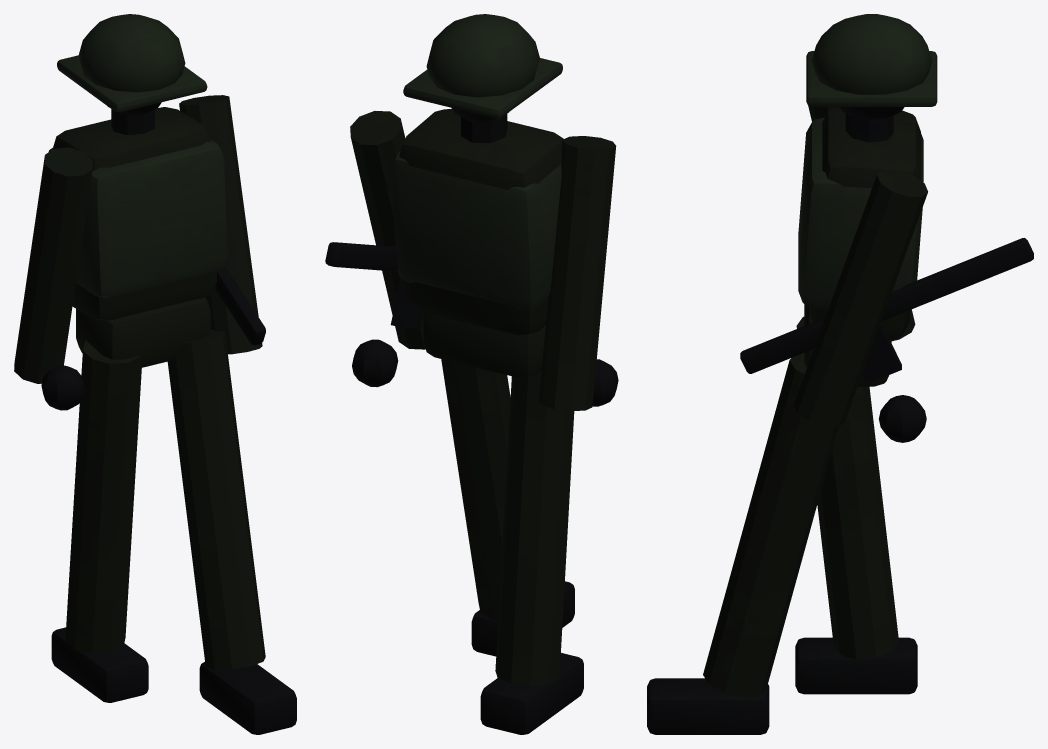
The model's file is fac_person_b.glb.
3 renders of one model, left to right at view 1: azimuth 30°, elevation 25°; view 2: azimuth 150°, elevation 25°; view 3: azimuth 270°, elevation 25°, orthographic. The views are drawn at different scales.
Visible parts, largest first — view 1: FAC_PERSON_B; view 2: FAC_PERSON_B; view 3: FAC_PERSON_B.
Boxes of the visible parts, box(x1,y1,x2,y2) form: FAC_PERSON_B: box(14, 14, 296, 734); FAC_PERSON_B: box(325, 14, 618, 734); FAC_PERSON_B: box(647, 14, 1033, 734).
Size of the model in its own units: 0.6047 by 1.73 by 0.8862.
3 materials, 3 textured.
